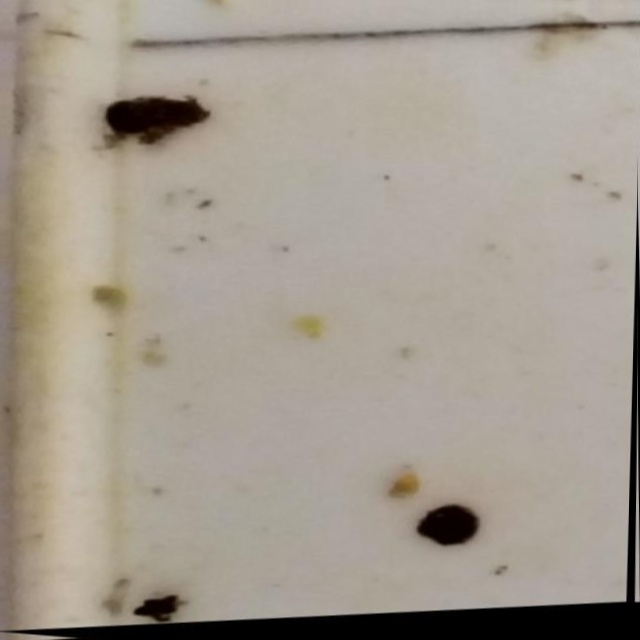varroa: (101, 98, 218, 143), (419, 509, 486, 559)
